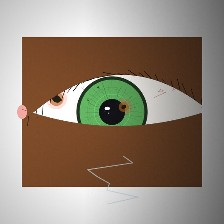foreign_body_visible: (32, 79, 81, 118)
